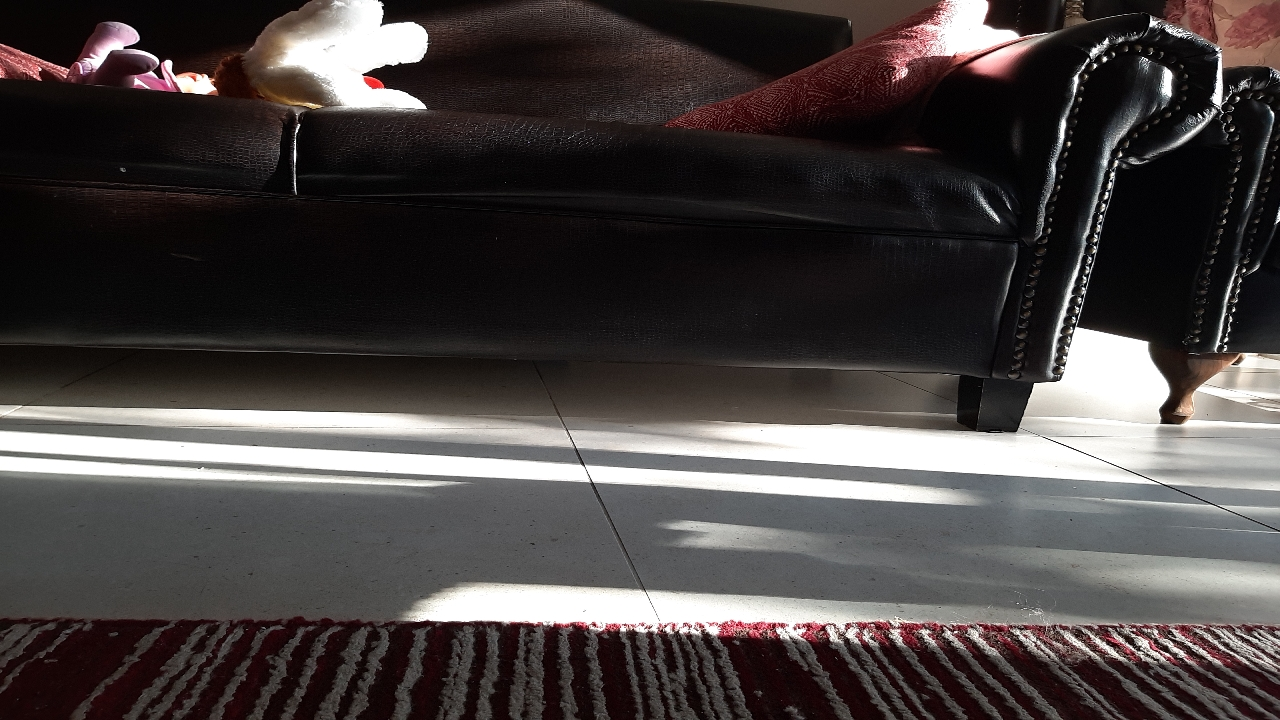sofa: (905, 311, 1254, 472)
